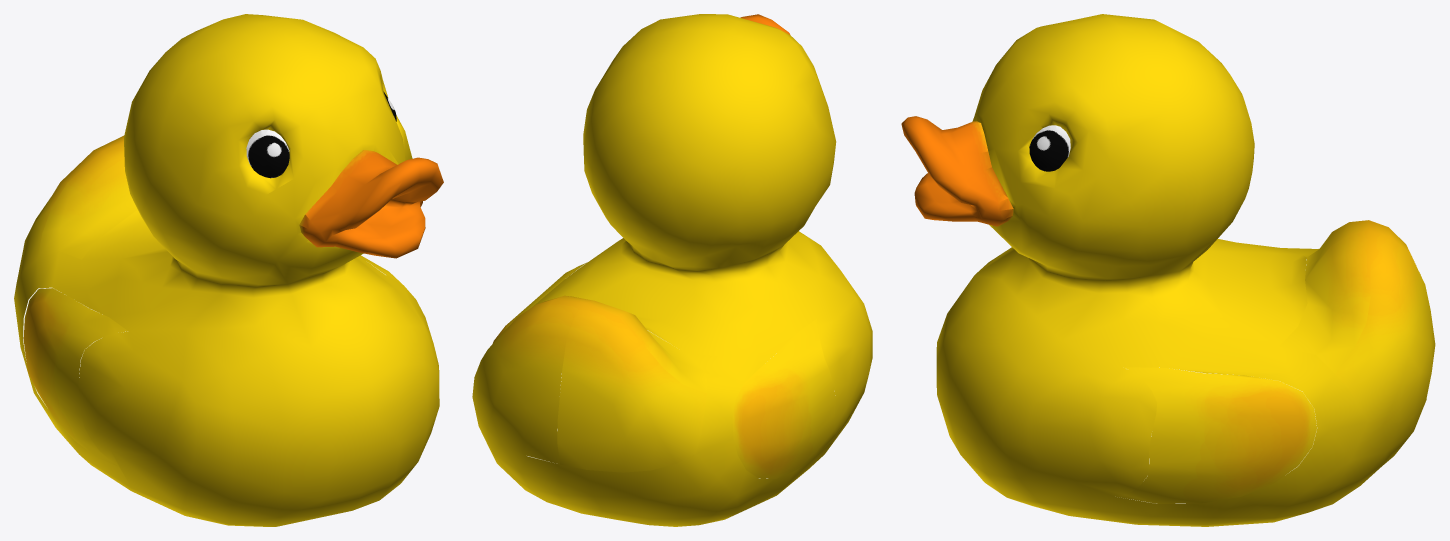
Rendered from duck.glb.
The picture shows the model from 3 angles, left to right: view 1: azimuth 30°, elevation 25°; view 2: azimuth 150°, elevation 25°; view 3: azimuth 270°, elevation 25°; orthographic projection. The views are drawn at different scales.
Parts seen in each view (by area): view 1: LOD3spShape; view 2: LOD3spShape; view 3: LOD3spShape.
Boxes of the visible parts, x1,y1,x2,y2 form: LOD3spShape: (14,14,443,526); LOD3spShape: (472,14,872,526); LOD3spShape: (901,14,1435,526).
Bounding box in the file's own units: 1.15 × 1.54 × 1.66.
1 material, 1 textured.
